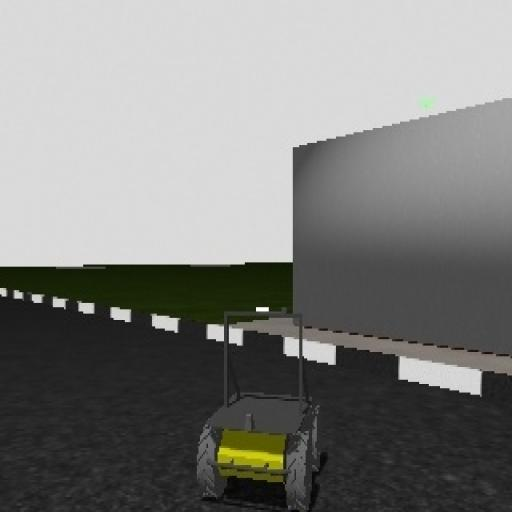huskya200: (191, 298, 334, 512)
